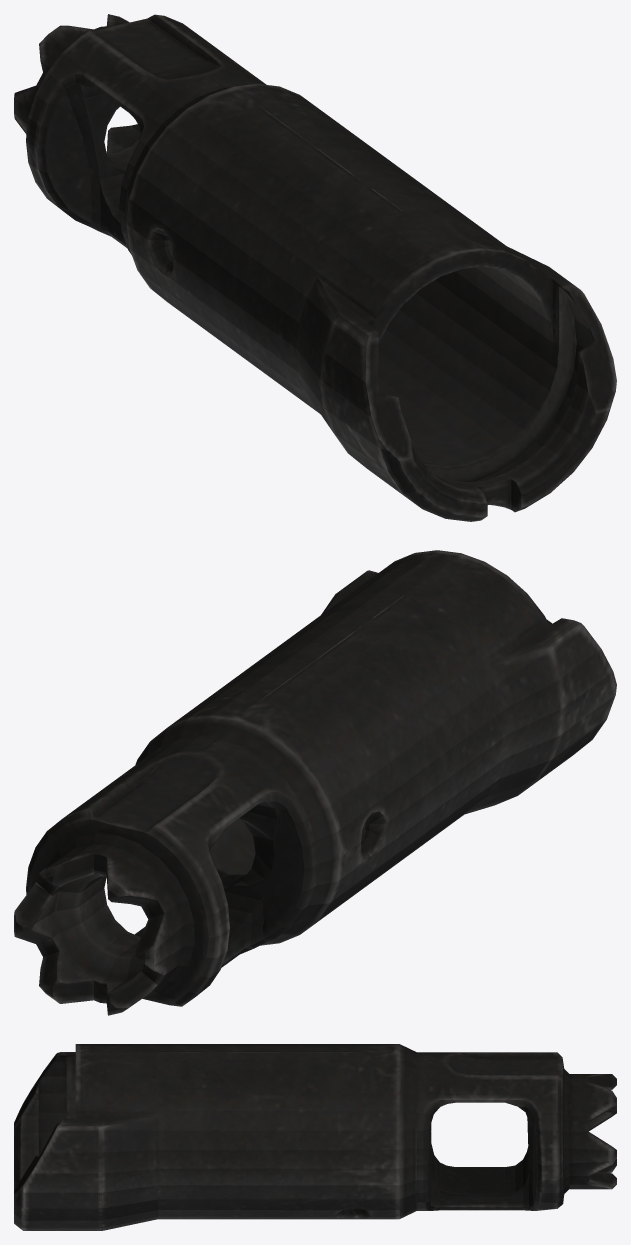
3 renders of one model, top to bottom at view 1: azimuth 30°, elevation 25°; view 2: azimuth 150°, elevation 25°; view 3: azimuth 270°, elevation 25°, orthographic. The views are drawn at different scales.
Parts seen in each view (by area): view 1: TW_649ec2af961514b22506b10f_PZ_Import; view 2: TW_649ec2af961514b22506b10f_PZ_Import; view 3: TW_649ec2af961514b22506b10f_PZ_Import.
Boxes of the visible parts, box(x1,y1,x2,y2) form: TW_649ec2af961514b22506b10f_PZ_Import: box(14, 14, 616, 521); TW_649ec2af961514b22506b10f_PZ_Import: box(14, 550, 616, 1015); TW_649ec2af961514b22506b10f_PZ_Import: box(14, 1044, 616, 1230).
Size of the model in its own units: 0.0167 by 0.0508 by 0.0157.
Materials: 1 (1 with a texture image).
